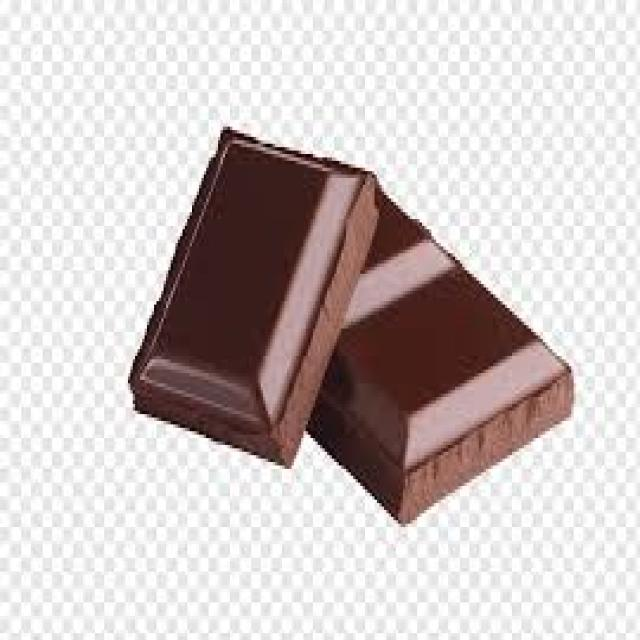Chocolate: (127, 126, 578, 526)
